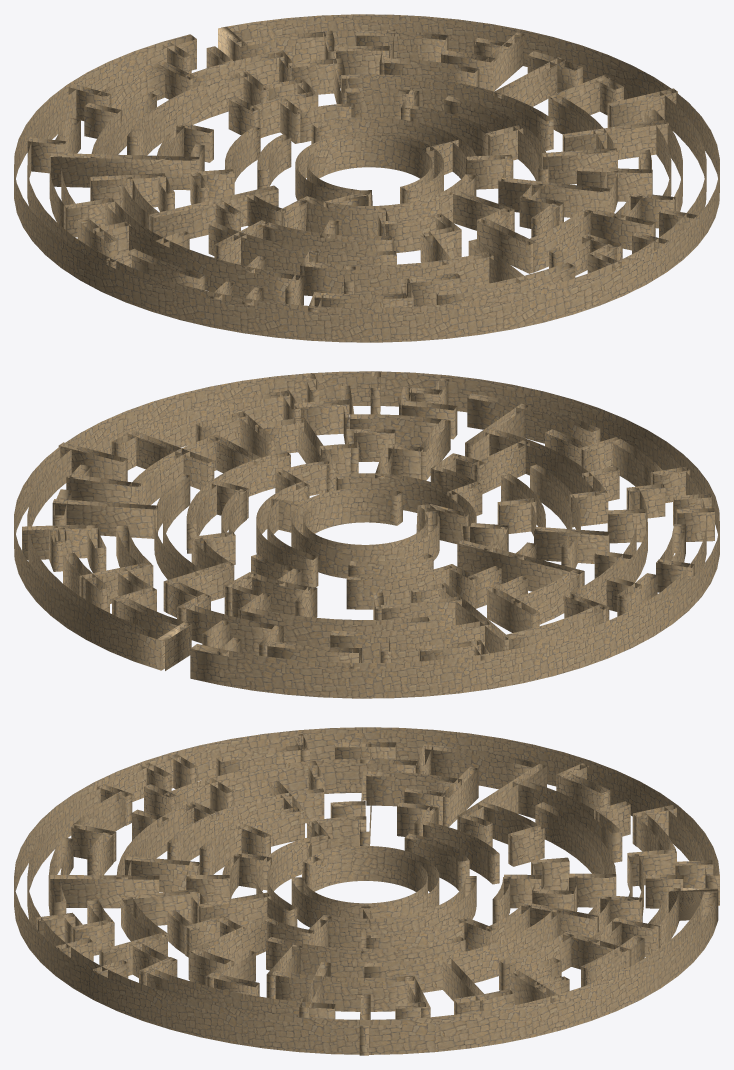
Rendered from labirintov4.glb.
3 views of the same model, one above another, from view 1: azimuth 30°, elevation 25°; view 2: azimuth 150°, elevation 25°; view 3: azimuth 270°, elevation 25° (orthographic).
Parts seen in each view (by area): view 1: Circle.003; view 2: Circle.003; view 3: Circle.003.
Boxes of the visible parts, <box> form: Circle.003: <box>14,14,719,342</box>; Circle.003: <box>14,371,719,698</box>; Circle.003: <box>14,727,719,1055</box>.
Bounding box in the file's own units: 78.09 × 3.65 × 77.88.
1 material, 1 textured.
